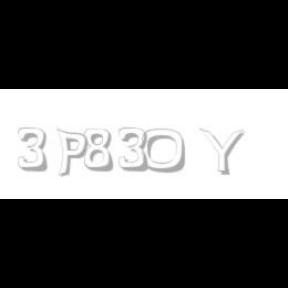3: (17, 128, 48, 172), (119, 128, 150, 172)
8: (84, 128, 114, 172)
O: (142, 128, 186, 174)
P: (56, 128, 88, 178)
Y: (199, 128, 245, 176)
